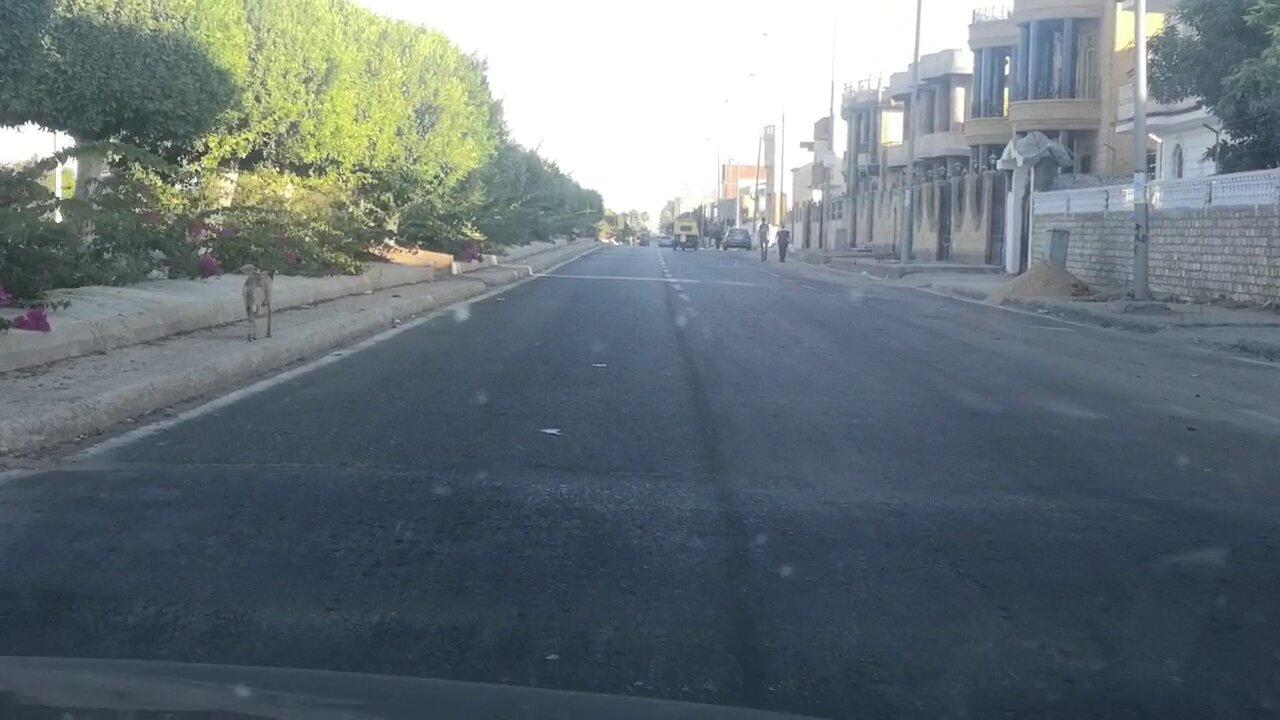Bump: (32, 437, 1280, 712)
